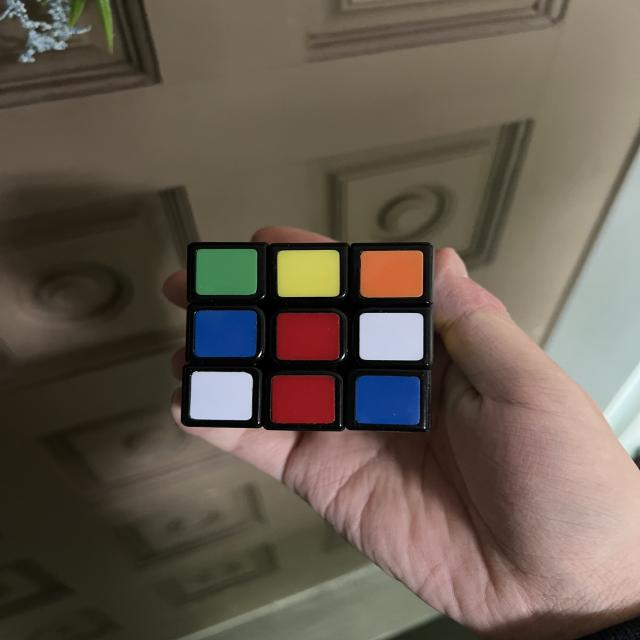blue: (354, 375, 421, 426), (193, 310, 258, 358)
center: (276, 313, 340, 361)
green: (195, 248, 258, 296)
orange: (359, 250, 423, 298)
red: (272, 375, 335, 424)
white: (189, 371, 253, 421), (359, 313, 423, 360)
yellow: (277, 250, 340, 297)
